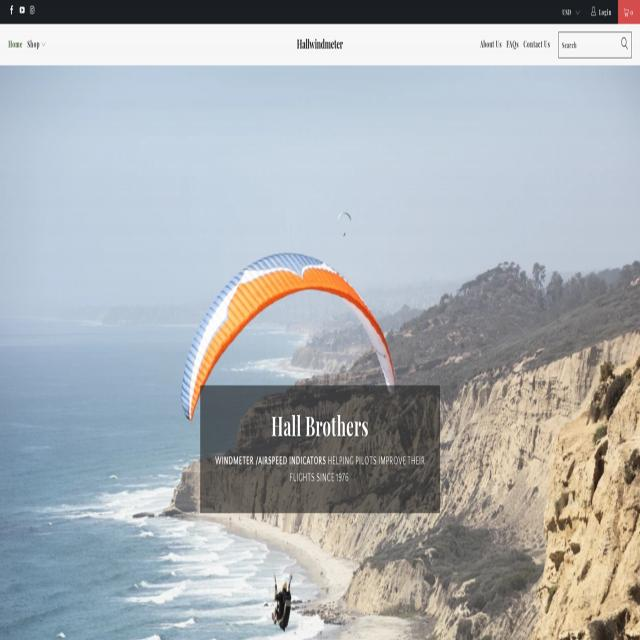button: (269, 24, 371, 63), (524, 30, 550, 59), (480, 30, 502, 59), (590, 0, 612, 24), (28, 30, 46, 59), (560, 0, 581, 24), (618, 0, 639, 23), (8, 30, 23, 59), (506, 30, 519, 59), (620, 36, 628, 52), (8, 7, 14, 15), (19, 7, 25, 15), (29, 7, 35, 15)
field: (558, 32, 632, 58)
